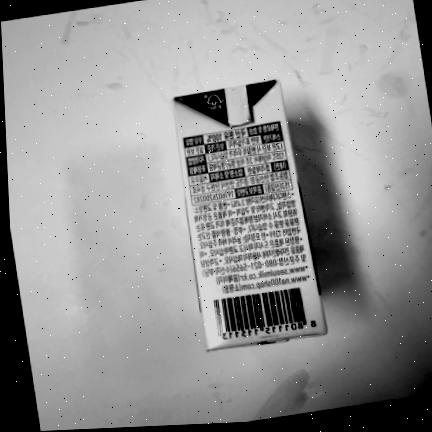milk_green: (175, 78, 328, 352)
